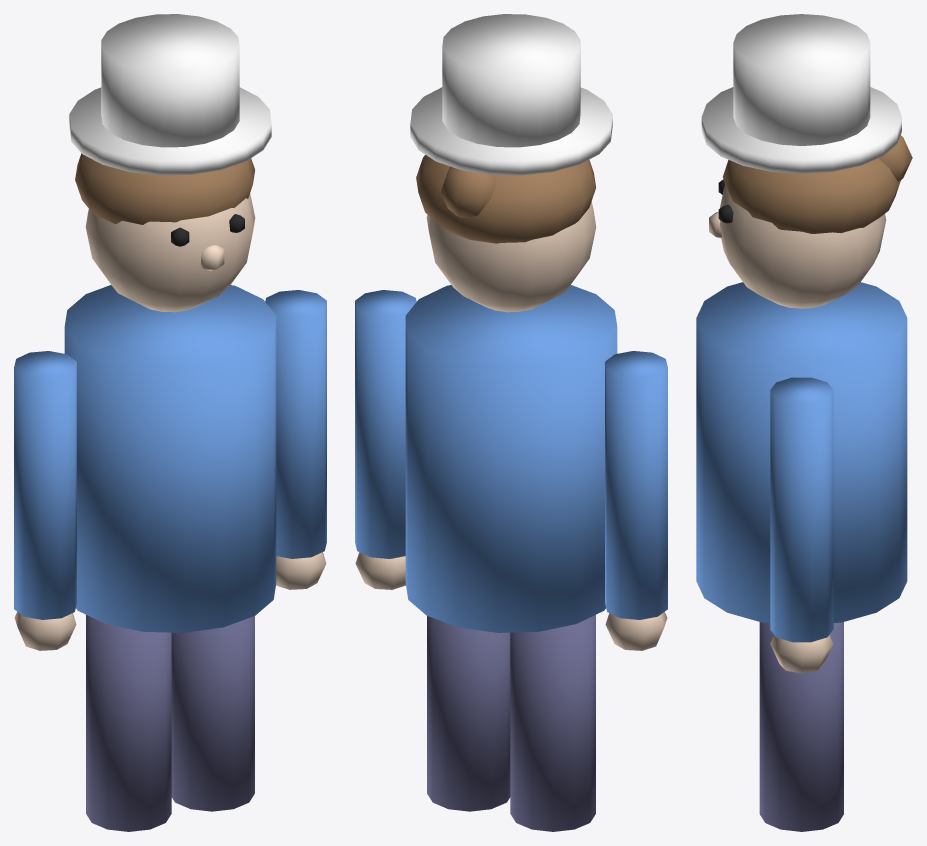
Rendered from customer_1.fbx.
3 views of the same model, side by side, from view 1: azimuth 30°, elevation 25°; view 2: azimuth 150°, elevation 25°; view 3: azimuth 270°, elevation 25° (orthographic).
Visible parts, largest first — view 1: customer_1; view 2: customer_1; view 3: customer_1.
Boxes of the visible parts, bbox=[...] form: customer_1: bbox=[14, 14, 326, 831]; customer_1: bbox=[355, 14, 667, 831]; customer_1: bbox=[696, 14, 912, 831].
Bounding box in the file's own units: 0.66 × 1.57 × 0.41.
